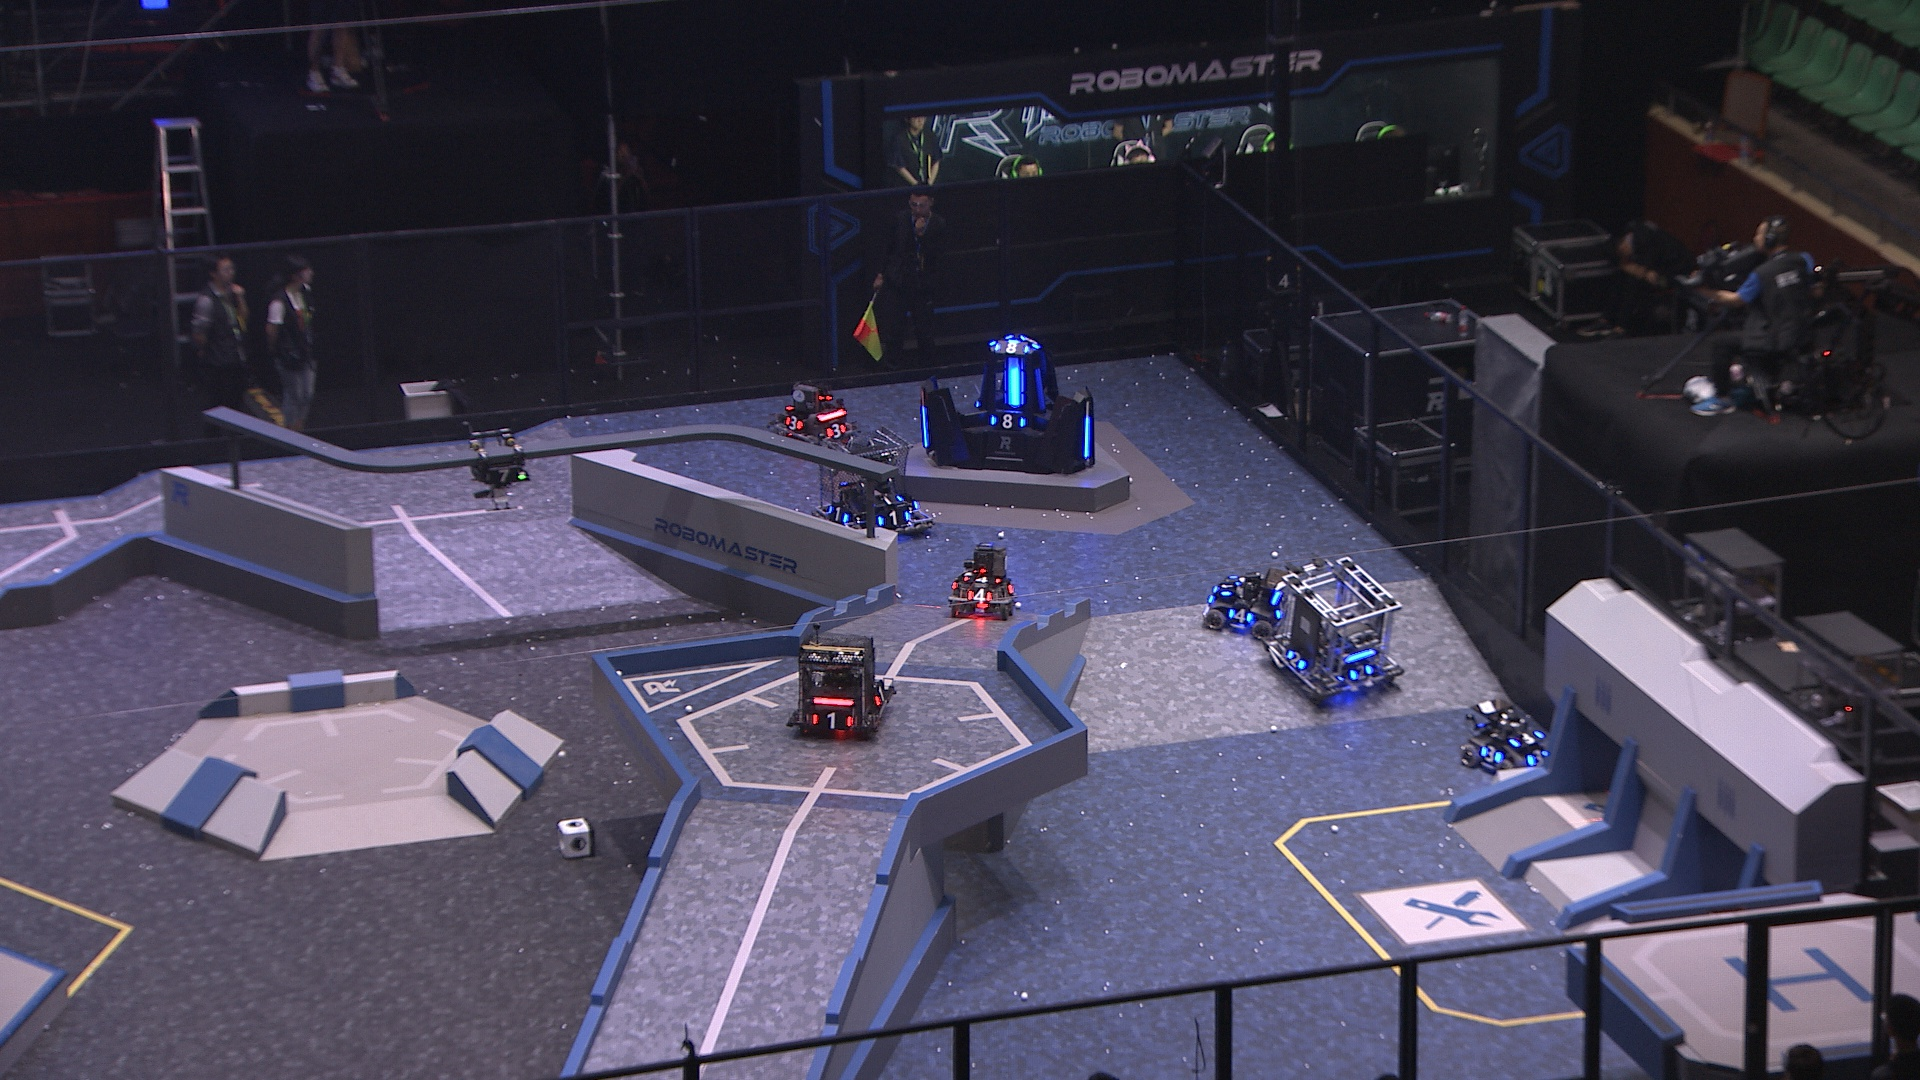armor: (807, 709, 855, 732), (484, 462, 527, 483), (1282, 645, 1309, 674), (1030, 371, 1048, 411), (986, 414, 1027, 433), (957, 571, 1001, 588), (868, 683, 894, 711), (878, 509, 915, 529), (823, 501, 852, 526), (1476, 740, 1505, 765), (1005, 367, 1021, 409), (916, 407, 932, 450), (1506, 728, 1542, 746), (994, 339, 1030, 357), (964, 585, 993, 608), (1524, 749, 1552, 771), (1226, 605, 1254, 626), (782, 410, 807, 433), (822, 419, 849, 439), (1348, 661, 1375, 680), (1273, 600, 1294, 622), (877, 491, 905, 505), (1216, 575, 1233, 597), (1083, 414, 1091, 460)
base: (913, 334, 1097, 476)
car: (1261, 550, 1414, 702), (802, 425, 932, 543), (787, 624, 899, 738), (1457, 690, 1563, 785), (1200, 567, 1295, 644), (766, 380, 858, 450), (944, 541, 1019, 624)
watcher: (462, 427, 533, 512)
